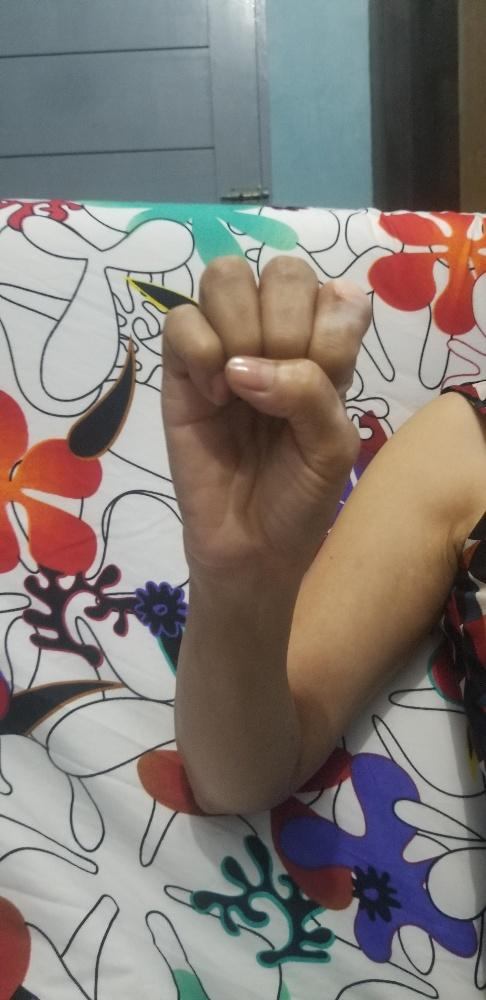s: (156, 249, 377, 568)
